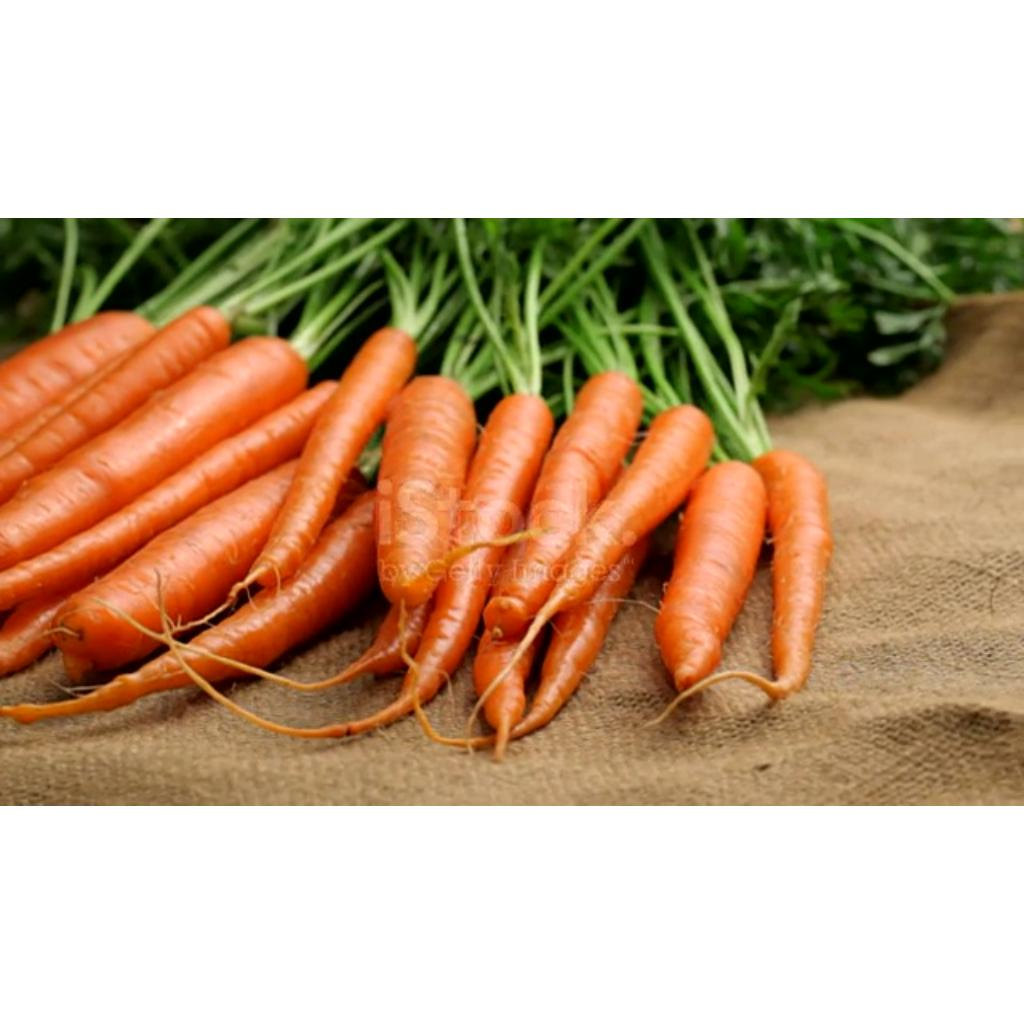carrot: (1, 380, 338, 611), (0, 338, 306, 569), (54, 494, 374, 713), (54, 460, 297, 681), (232, 328, 416, 593), (0, 308, 230, 503), (414, 394, 554, 701), (483, 373, 641, 641), (533, 406, 714, 625), (510, 536, 649, 740), (654, 462, 766, 691), (378, 376, 476, 609), (754, 450, 834, 702), (3, 312, 152, 435)
